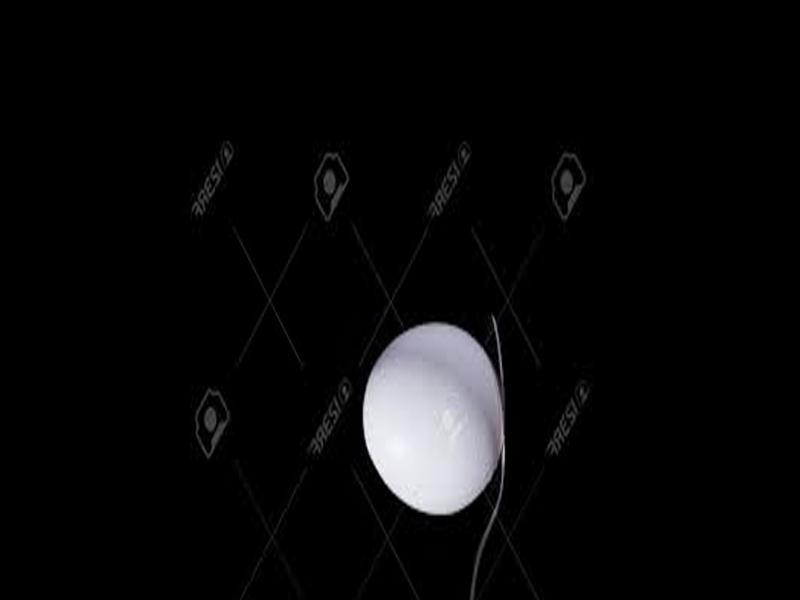Eggs: (364, 322, 503, 515)
